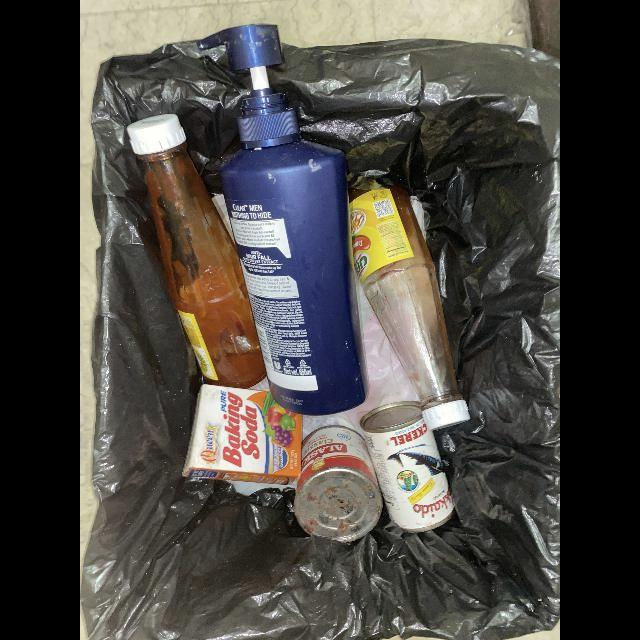aluminum: (359, 401, 455, 533), (294, 425, 383, 544)
cardboard: (182, 384, 303, 485)
glass_bottle: (127, 114, 267, 390), (349, 185, 470, 431)
plastic_bottle: (197, 24, 368, 418)
